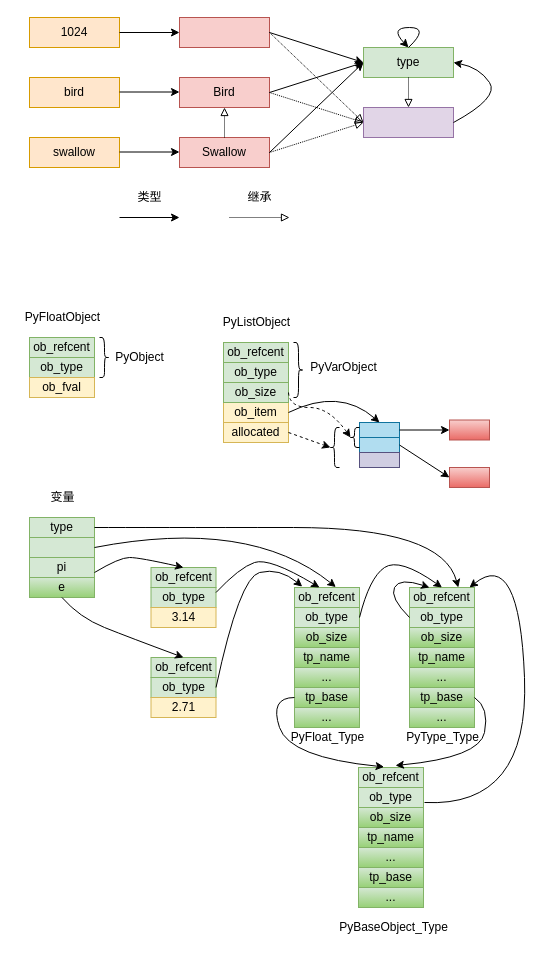
This 543x955 diagram has some shape labels left out. Here are the shapes that lost their labels. From the top down, the centre of each, then its label:
At pixel 224 32: "int".
At pixel 408 122: "object".
At pixel 61 547: "float".
